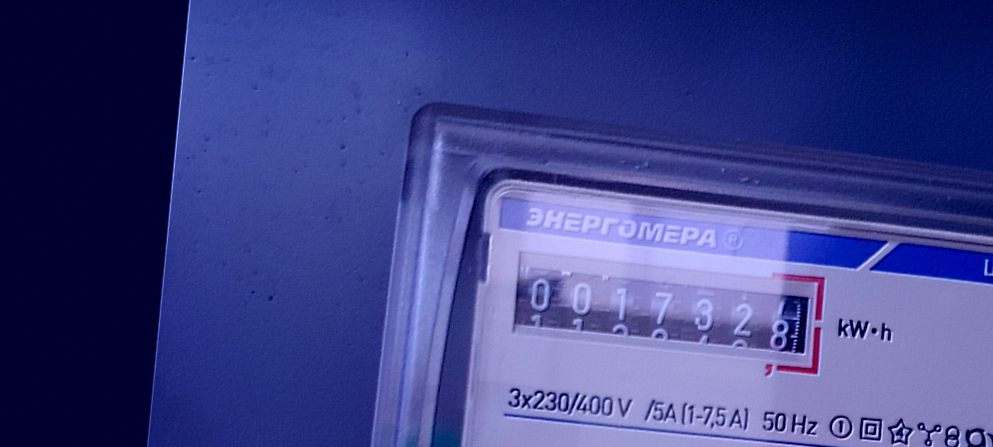0: (528, 275, 554, 314), (570, 281, 593, 316)
1: (612, 285, 630, 322)
2: (730, 301, 754, 339)
3: (691, 296, 716, 334)
7: (648, 288, 676, 328)
8: (767, 316, 790, 353)
screen: (500, 248, 831, 379)
